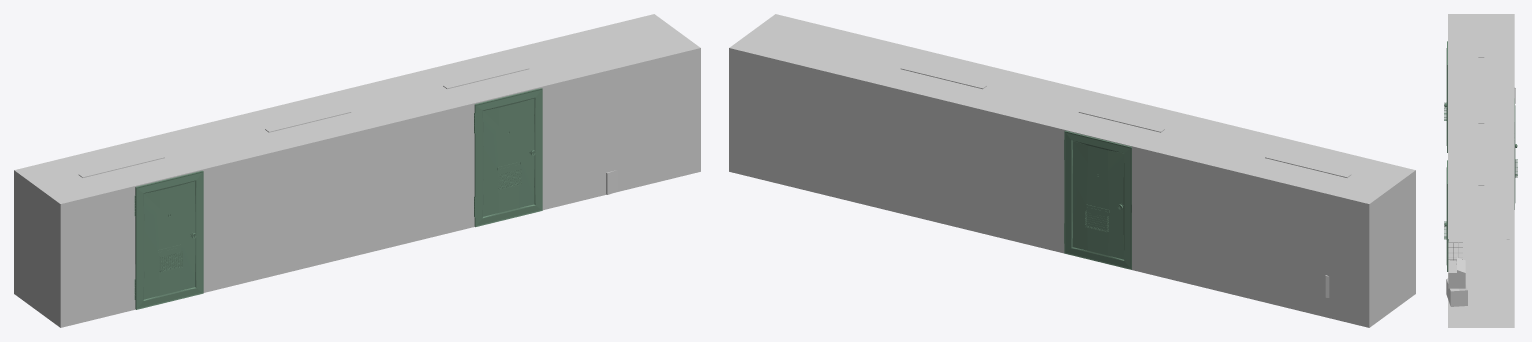
File: rouka.fbx
3 renders of one model, left to right at view 1: azimuth 30°, elevation 25°; view 2: azimuth 150°, elevation 25°; view 3: azimuth 270°, elevation 25°, orthographic. The views are drawn at different scales.
Visible parts, largest first — view 1: rouka, door.001, door.004, rouka.001; view 2: rouka, door.003, rouka.001; view 3: rouka, danboru.001, danboru, door.004, door.003, door.001, keikou.002, keikou.001, keikou.003, kasatate.001.
Part boxes in pixels (x1,y1,x2,y2): rouka: (14, 14, 700, 327); door.001: (134, 170, 203, 309); door.004: (474, 88, 542, 227); rouka.001: (14, 170, 60, 327); rouka: (729, 14, 1415, 327); door.003: (1064, 130, 1131, 269); rouka.001: (1369, 170, 1415, 327); rouka: (1448, 14, 1514, 327); danboru.001: (1448, 257, 1465, 288); danboru: (1446, 278, 1467, 306); door.004: (1444, 160, 1448, 271); door.003: (1514, 98, 1517, 209); door.001: (1444, 41, 1447, 152); keikou.002: (1478, 94, 1484, 123); keikou.001: (1478, 28, 1484, 57); keikou.003: (1478, 156, 1484, 185); kasatate.001: (1448, 242, 1462, 259).
Bounding box in the file's own units: 10419 × 1948 × 1445.
